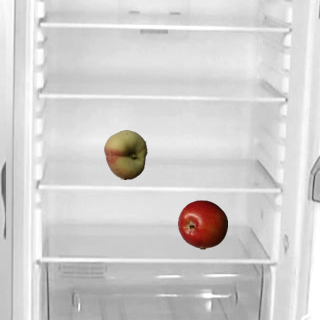Apple Braeburn: (177, 199, 227, 249)
Peach Flat: (100, 129, 150, 179)
